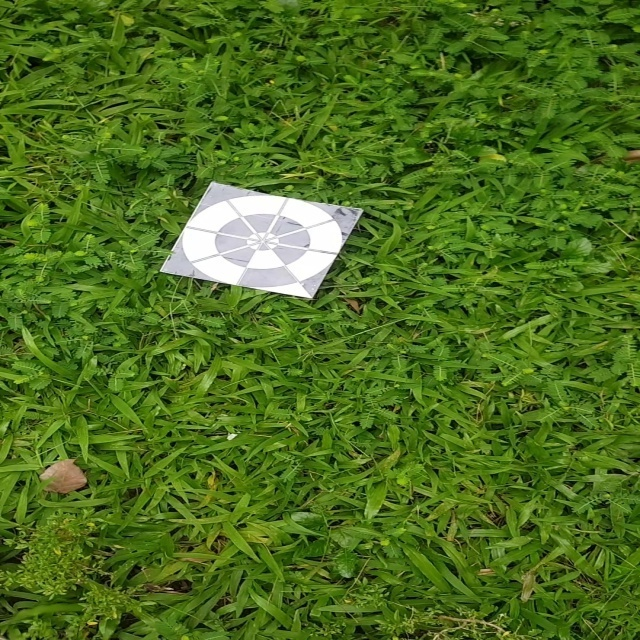landing-zone: (158, 176, 367, 305)
